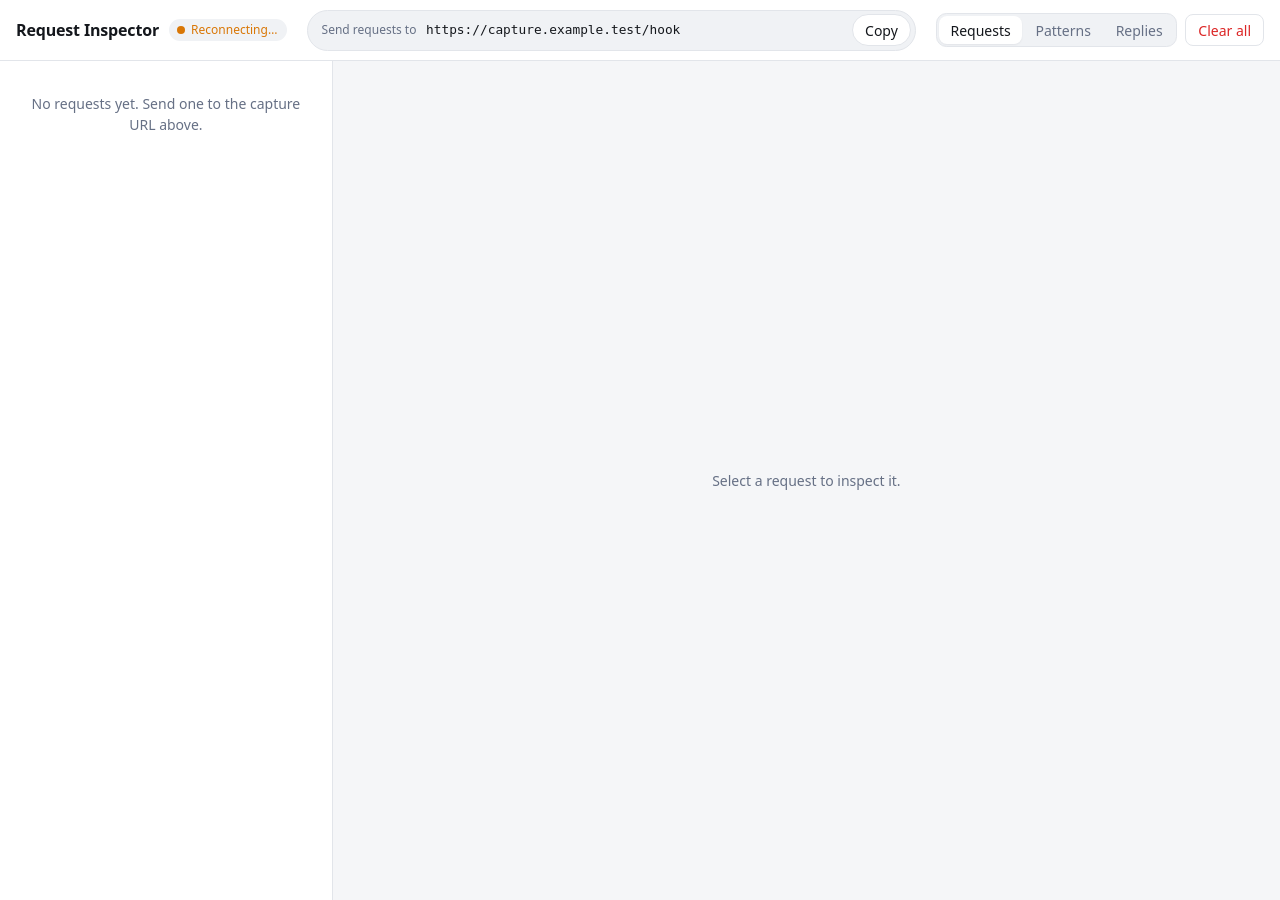
Test: patterns view › lists patterns and shows the selected one as a table
Click the tab "Patterns".
click(1063, 30)  # box x1=1024 y1=16 x2=1102 y2=44
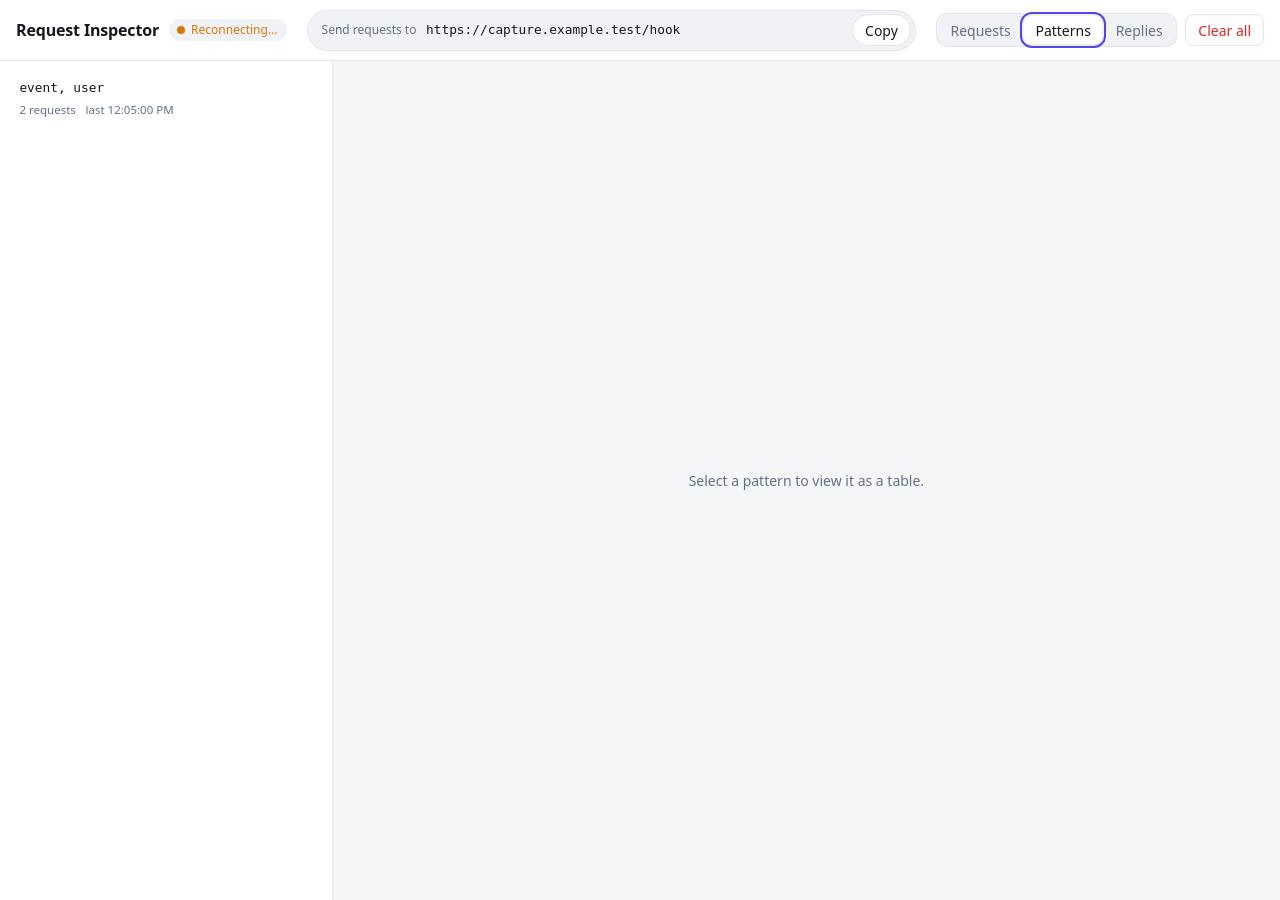
Click the text "event, user".
click(62, 88)  # box x1=19 y1=78 x2=104 y2=97
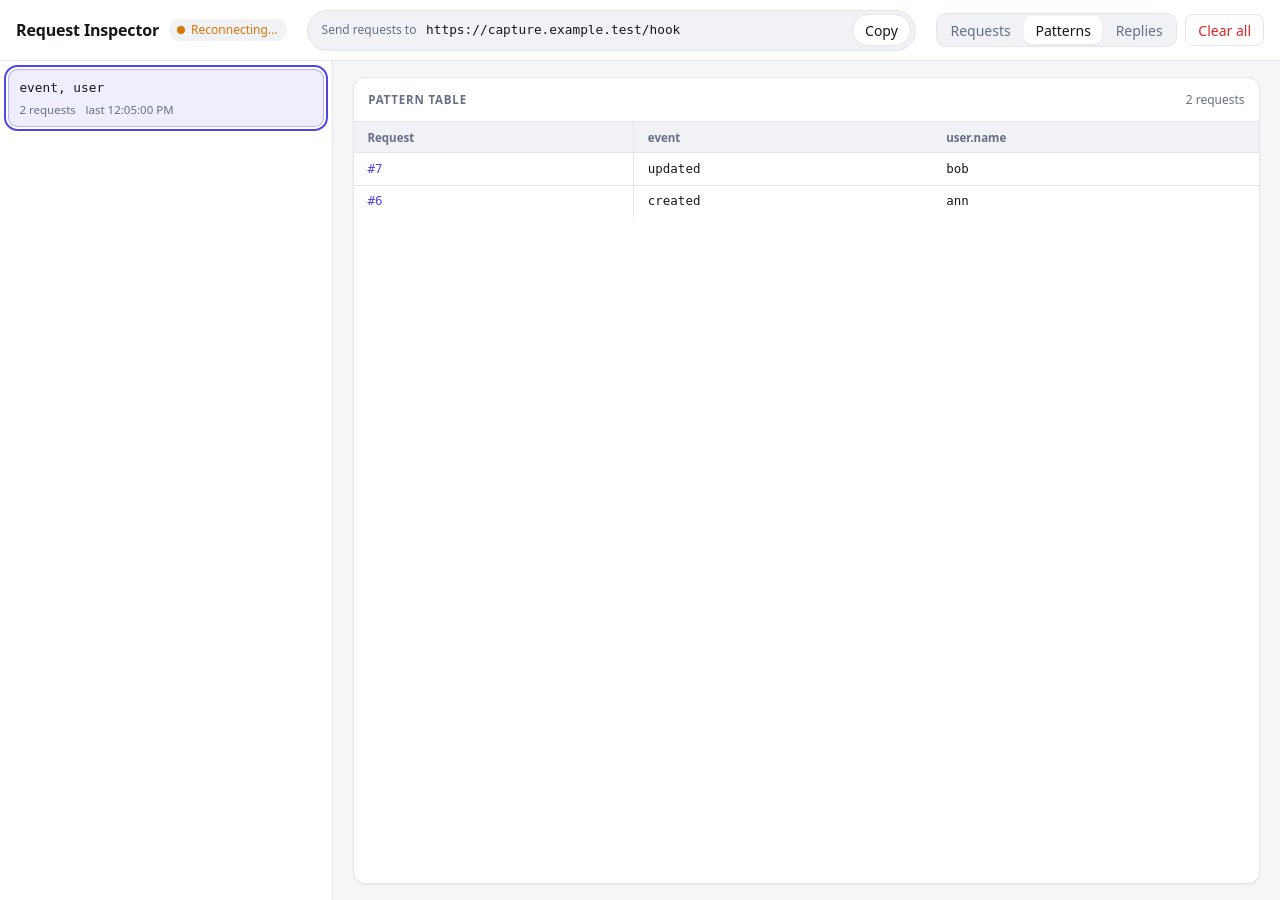
Result: the column heading "user.name" is shown at x1=932 y1=122 x2=1259 y2=153
Result: the cell "bob" is shown at x1=932 y1=153 x2=1259 y2=186
Result: the cell "ann" is shown at x1=932 y1=186 x2=1259 y2=217
